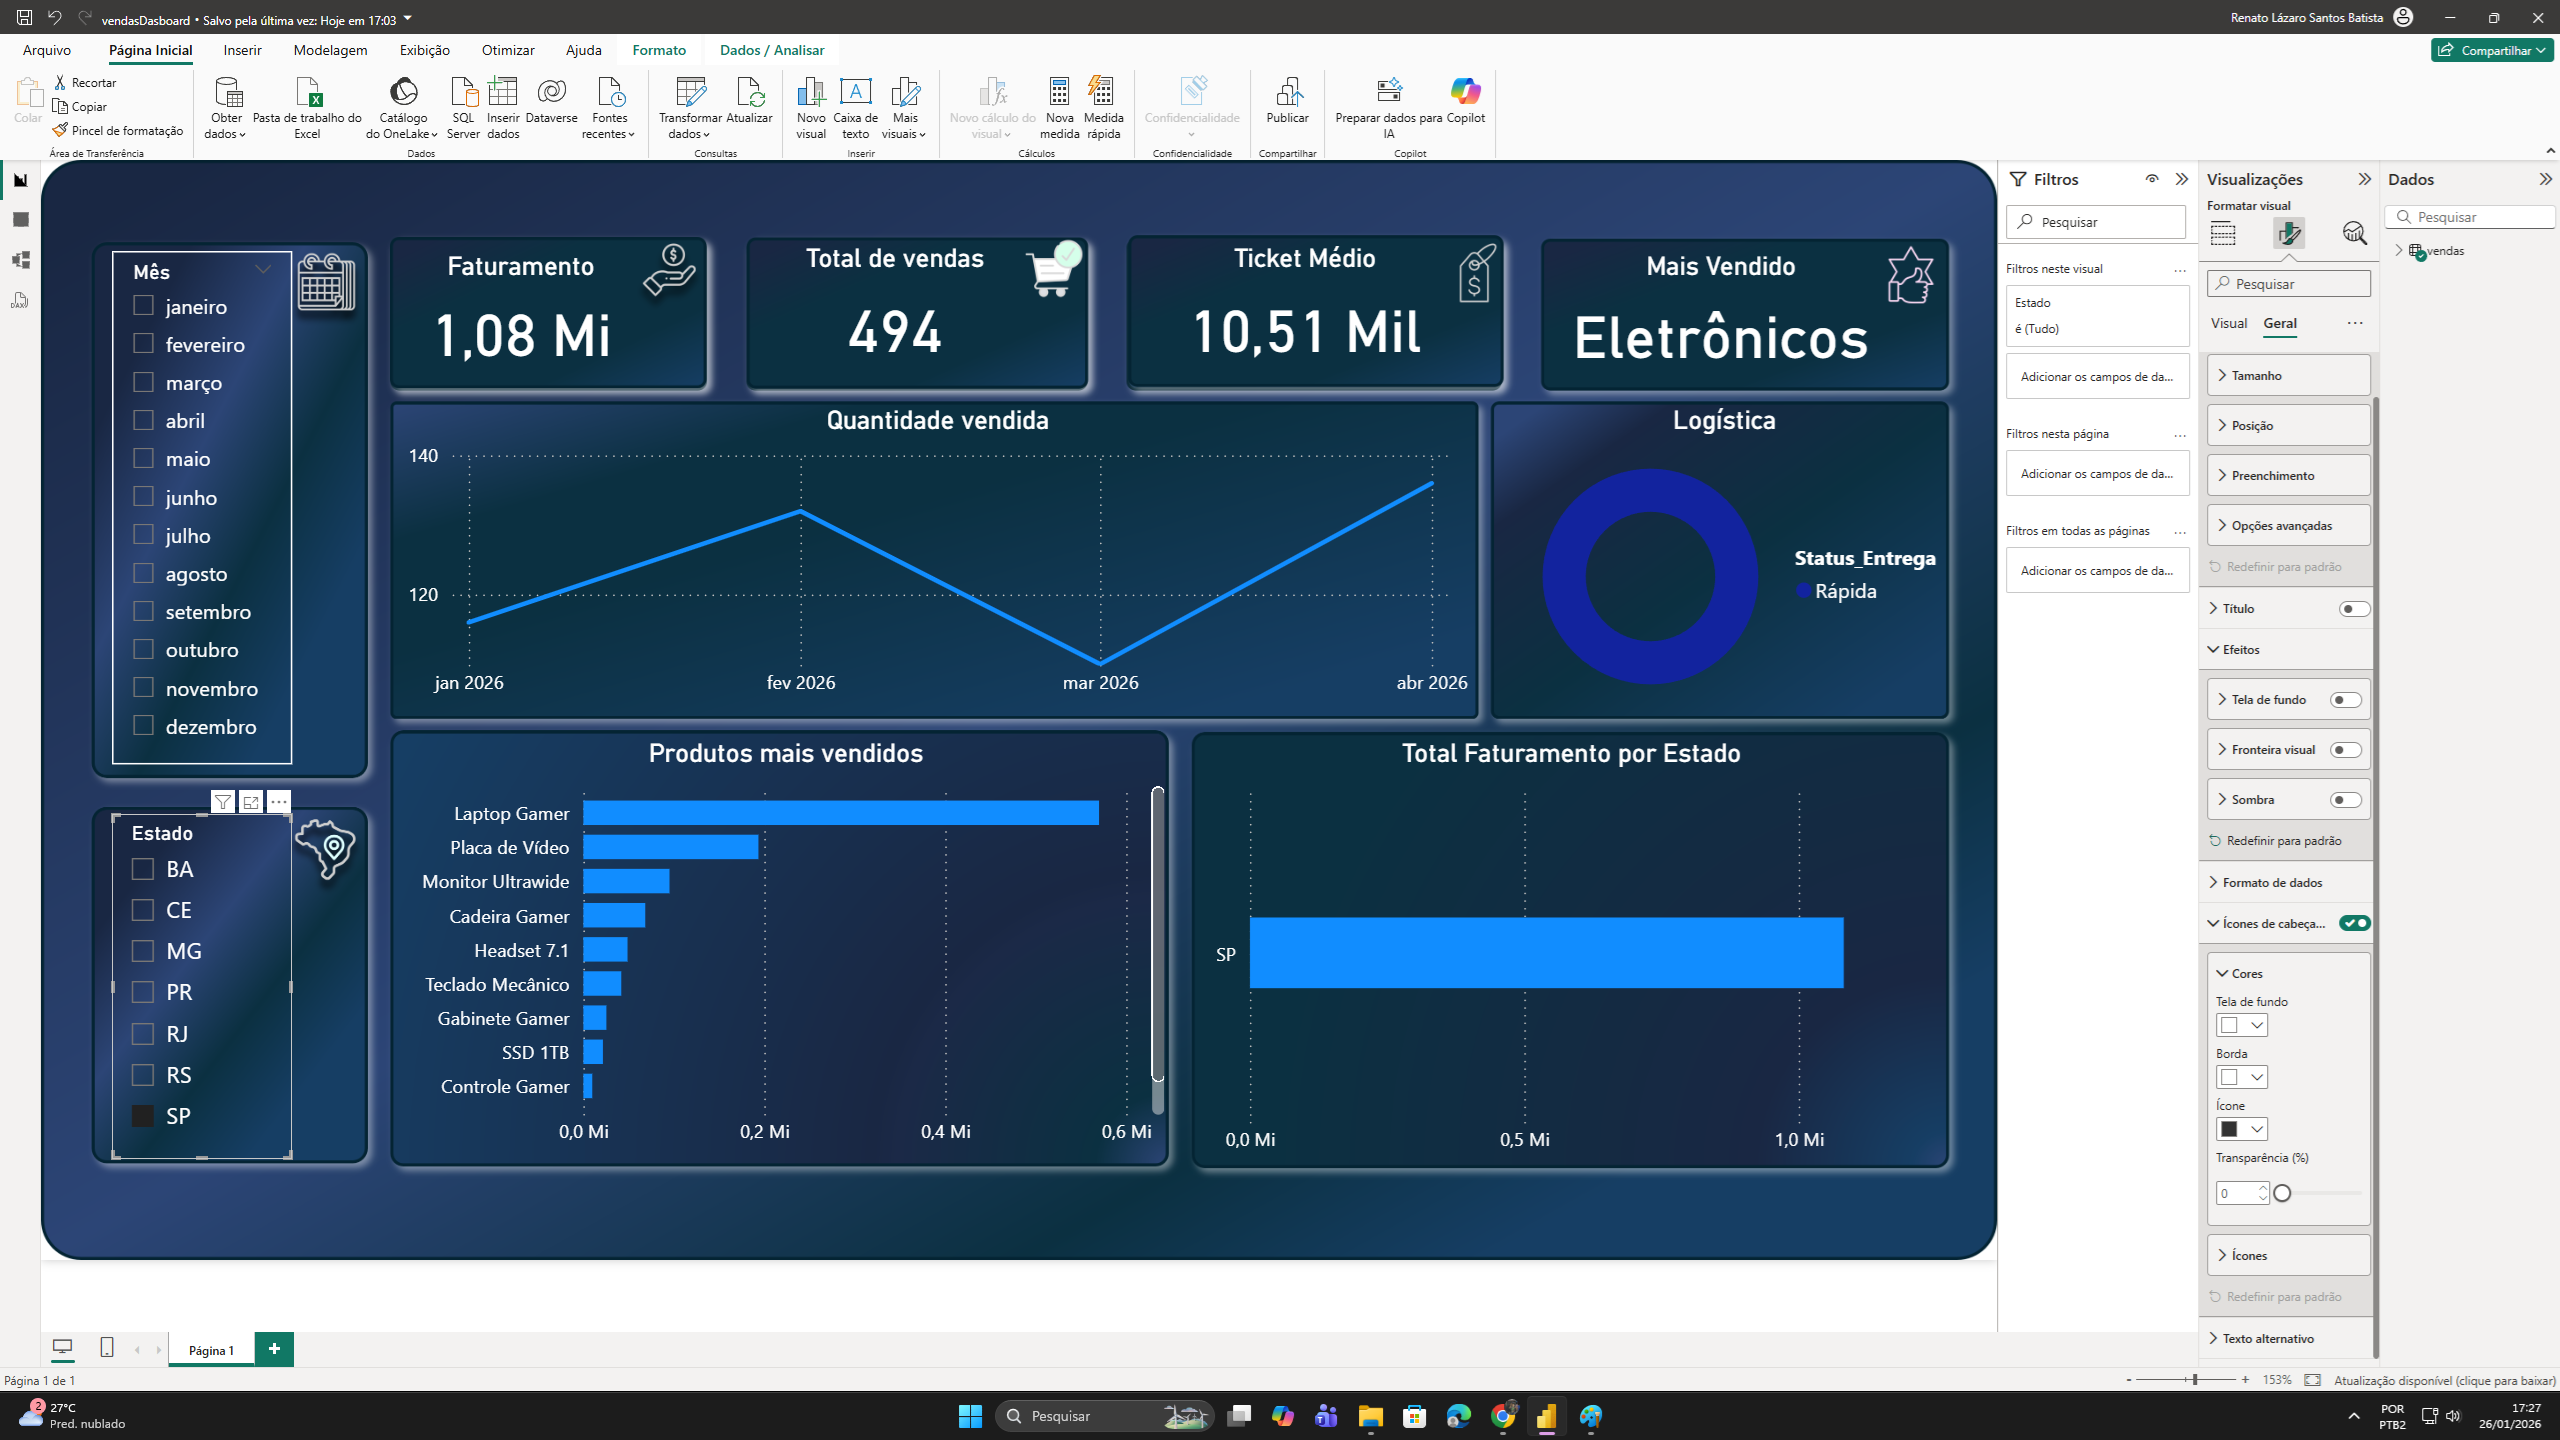

This screenshot's page, from the dashboard's own definition file:
{"tool":"powerbi","page":{"name":"Página 1","canvas":[1280,720],"ordinal":0},"visuals":[{"type":"card","title":"Faturamento","fields":{"Values":["Sum(dadc64f5-7e9e-4761-be42-3d51af9.Faturamento)"]},"box":[234.9,59.6,158.4,83.1],"z":0},{"type":"card","title":"Total de vendas","fields":{"Values":["Sum(dadc64f5-7e9e-4761-be42-3d51af9.Quantidade)"]},"box":[472.5,54.3,172.8,88.3],"z":1000},{"type":"card","title":"Ticket Médio","fields":{"Values":["vendas.Ticket Médio"]},"box":[728.3,54.3,197.6,88.3],"z":2000},{"type":"card","title":"Mais Vendido","fields":{"Values":["vendas.Top Categoria Texto"]},"box":[996,59.6,206.8,85.7],"z":3000},{"type":"lineChart","title":"Quantidade vendida","fields":{"Category":["vendas.Mês.Variation.Hierarquia de datas.Ano","vendas.Mês.Variation.Hierarquia de datas.Trimestre","vendas.Mês.Variation.Hierarquia de datas.Mês","vendas.Mês.Variation.Hierarquia de datas.Dia"],"Y":["Sum(vendas.Quantidade)"]},"box":[234.9,160.3,704.1,199.6],"z":4000},{"type":"barChart","title":"Produtos mais vendidos","fields":{"Category":["vendas.Nome_Produto"],"Y":["Sum(vendas.Faturamento)"]},"box":[234.9,378.2,505.2,275.5],"z":5000},{"type":"barChart","fields":{"Category":["vendas.Estado"],"Y":["vendas.Total Faturamento"]},"box":[759.1,378.2,484.9,280.7],"z":6000},{"type":"slicer","fields":{"Values":["vendas.Data_Pedido.Variation.Hierarquia de datas.Mês"]},"box":[46.5,59.6,118.4,336.4],"z":7000},{"type":"donutChart","title":"Logística","fields":{"Category":["vendas.Status_Entrega"],"Y":["Sum(vendas.ID_Pedido)"]},"box":[953.5,160.3,296.4,205.5],"z":8000},{"type":"slicer","fields":{"Values":["vendas.Estado"]},"box":[46.5,428,117.8,225.8],"z":9000}]}

Visuals, with their boxes on the page's 1280x720 design canvas (x1, y1, x2, y2). These are canvas units, not pixel positions in the 2560x1440 screenshot, which may show the page scaled, cropped or inside an application window:
"Faturamento" card: 235/60/393/143
"Total de vendas" card: 472/54/645/143
"Ticket Médio" card: 728/54/926/143
"Mais Vendido" card: 996/60/1203/145
"Quantidade vendida" lineChart: 235/160/939/360
"Produtos mais vendidos" barChart: 235/378/740/654
barChart - vendas.Estado x vendas.Total Faturamento: 759/378/1244/659
slicer - vendas.Data_Pedido.Variation.Hierarquia de datas.Mês: 46/60/165/396
"Logística" donutChart: 954/160/1250/366
slicer - vendas.Estado: 46/428/164/654
